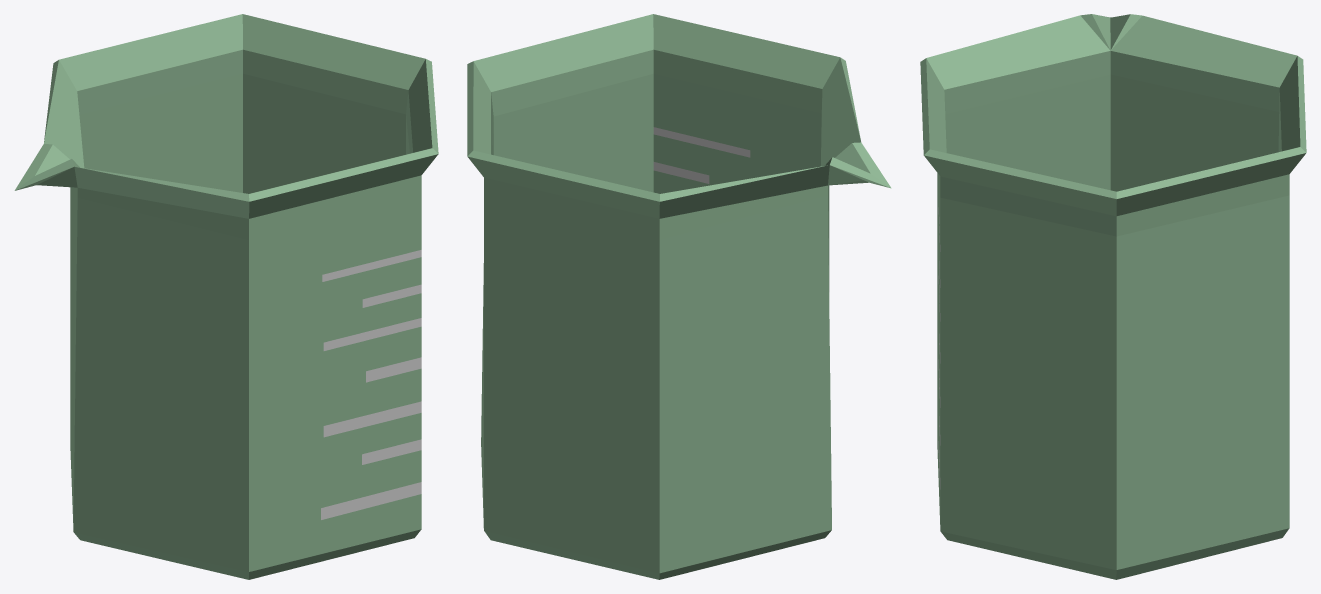
Rendered from beaker.fbx.
3 views of the same model, side by side, from view 1: azimuth 30°, elevation 25°; view 2: azimuth 150°, elevation 25°; view 3: azimuth 270°, elevation 25° (orthographic).
Visible parts, largest first — view 1: beaker; view 2: beaker; view 3: beaker.
Boxes of the visible parts, x1,y1,x2,y2 form: beaker: [14, 14, 438, 579]; beaker: [467, 14, 891, 579]; beaker: [920, 14, 1306, 579].
Bounding box in the file's own units: 242 × 217 × 192.
